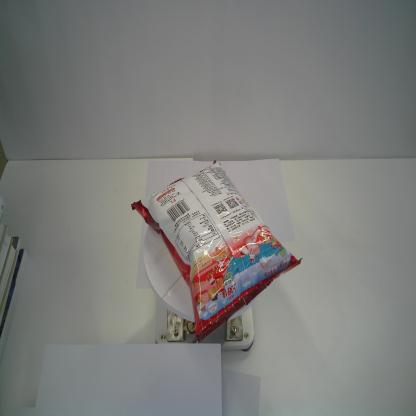Puffed Food: (131, 158, 304, 343)
